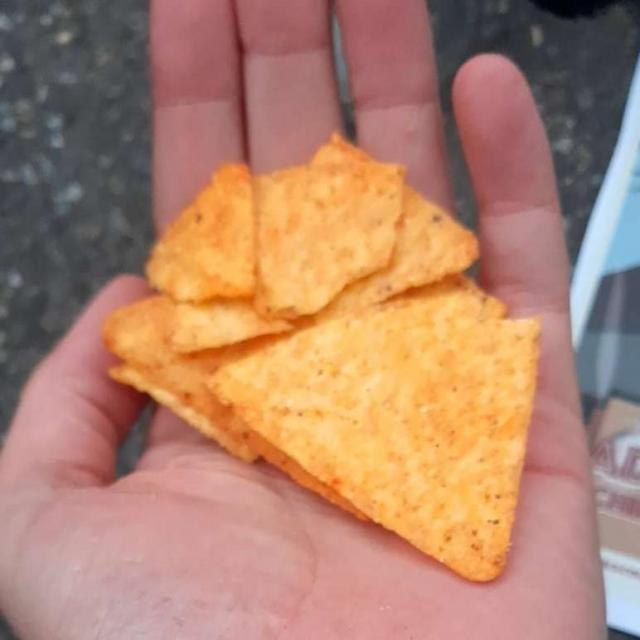corn-crisps: (110, 145, 514, 577)
